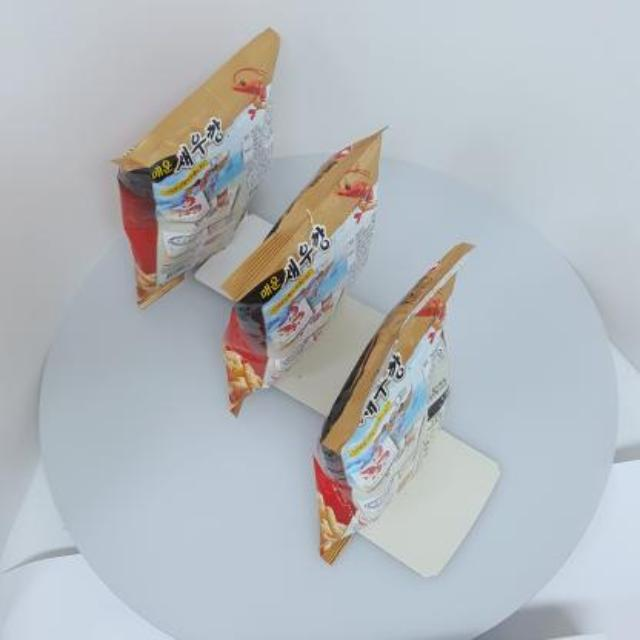snack_bag: (105, 21, 485, 584)
